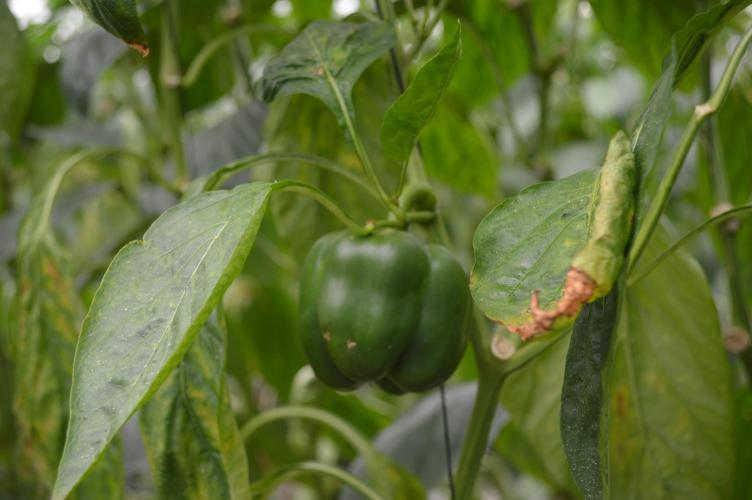BellPepper: (298, 233, 473, 403)
